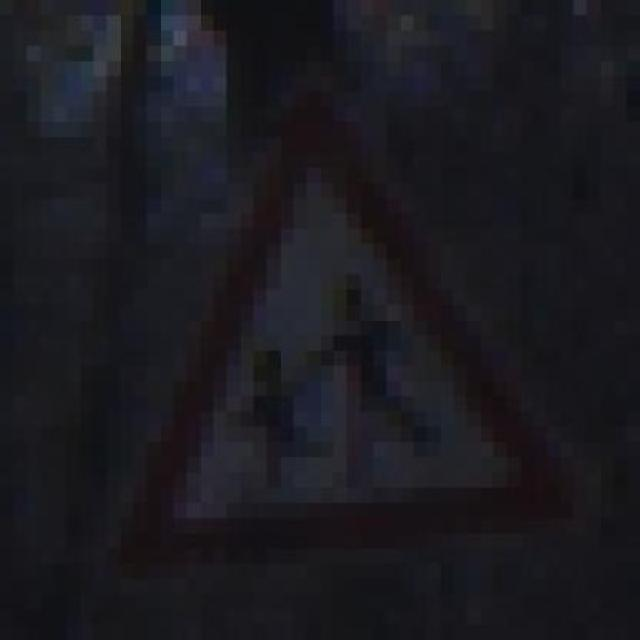Beware of children: (109, 101, 549, 619)
